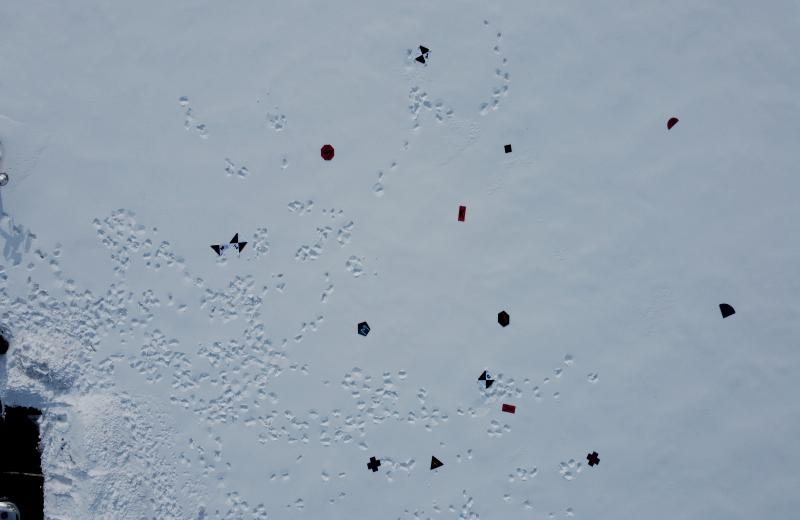Cross: (366, 455, 382, 473), (586, 450, 600, 468)
Hexagon: (497, 310, 511, 329)
Octagon: (320, 143, 335, 162)
Pentagon: (357, 320, 371, 337)
Quarter Circle: (719, 302, 736, 320)
Rectangle: (501, 402, 516, 414), (457, 204, 466, 223)
Semi Circle: (666, 117, 680, 131)
Square: (504, 144, 512, 154)
Triangle: (430, 454, 444, 471)
